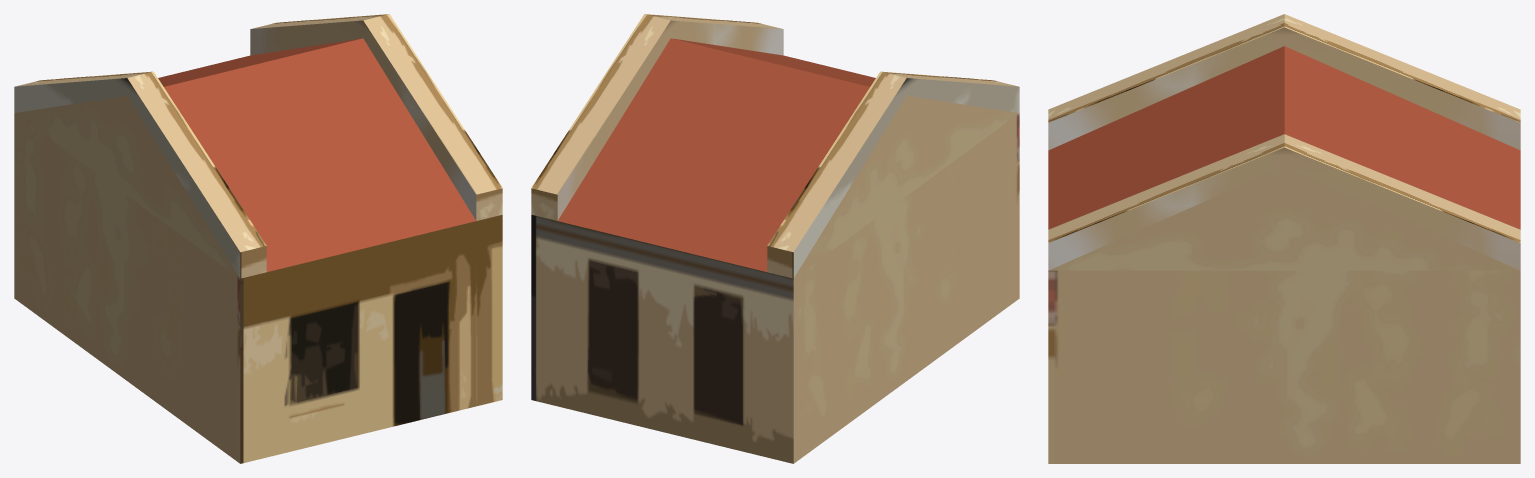
The model's file is SM_Building_Thin_02.fbx.
The picture shows the model from 3 angles, left to right: view 1: azimuth 30°, elevation 25°; view 2: azimuth 150°, elevation 25°; view 3: azimuth 270°, elevation 25°; orthographic projection. The views are drawn at different scales.
Parts seen in each view (by area): view 1: SM_Building_Thin_02; view 2: SM_Building_Thin_02; view 3: SM_Building_Thin_02.
Part boxes in pixels (x1,y1,x2,y2): SM_Building_Thin_02: (14, 14, 502, 463); SM_Building_Thin_02: (531, 14, 1019, 463); SM_Building_Thin_02: (1048, 14, 1520, 463).
Size of the model in its own units: 5.07 by 5.6 by 7.57.
